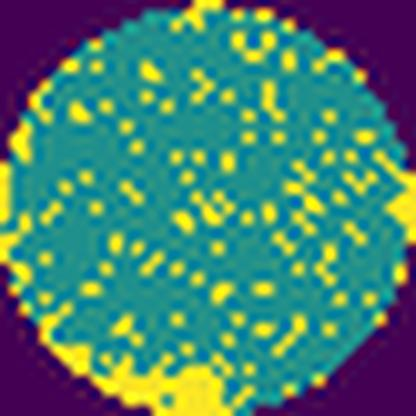Edge-Loc: (44, 311, 239, 416), (0, 114, 35, 318), (376, 150, 416, 247)
